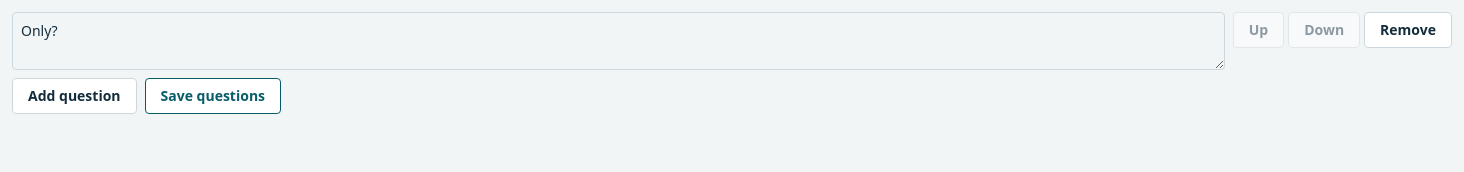
DraftQuestionsEditor (#154) › removes a question and says so when none are left
Click the button with aria-label "Remove question 1 for SEC-001" at (1408, 30), box [1364,12,1452,48]
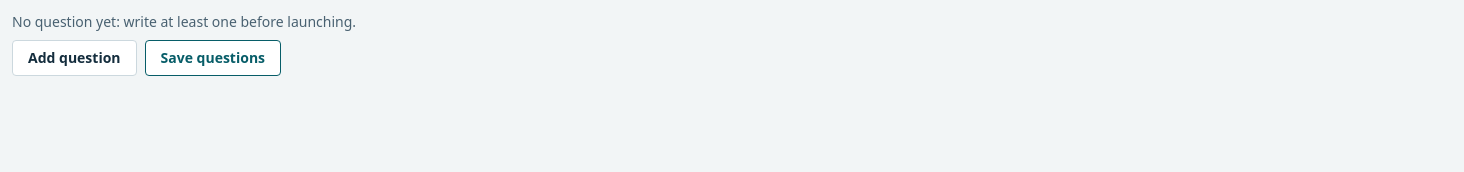
Expected: the text "No question yet: write at least one before launching." is shown, [12,12,356,31]
